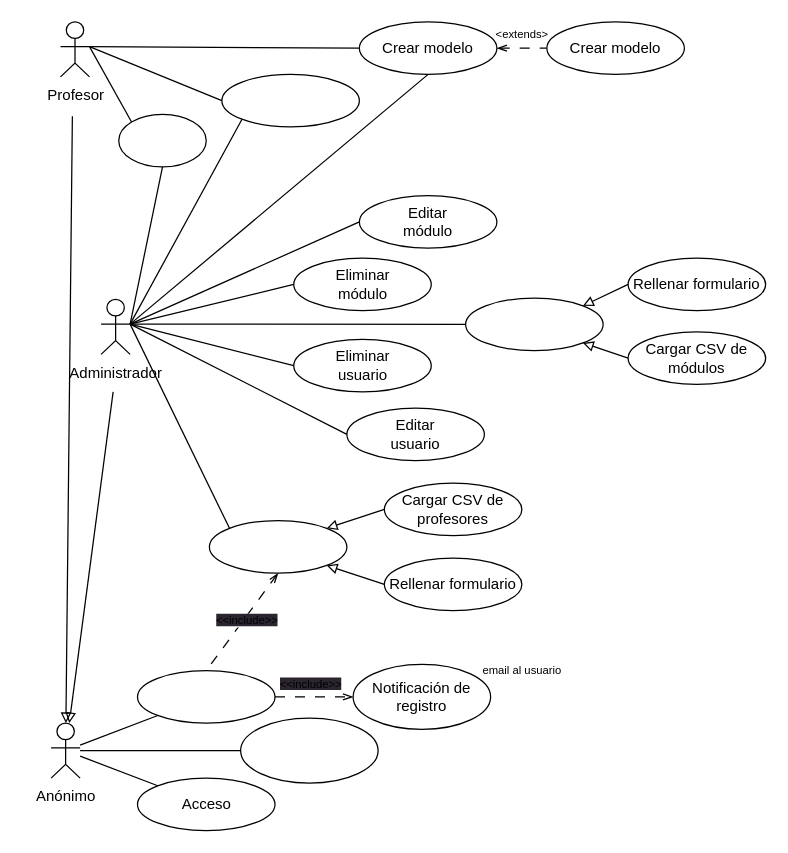
This 788x853 diagram has some shape labels left out. The shapes that lost their labels are listed below. From the top down, each one's centre as x and y in pixels, then its label:
(x=290, y=100): Editar modelo
(x=162, y=140): Eliminar modelo
(x=533, y=324): Crear módulo
(x=277, y=546): Crear/autorizar usuario
(x=205, y=696): Registro
(x=308, y=750): Consulta modelo común
